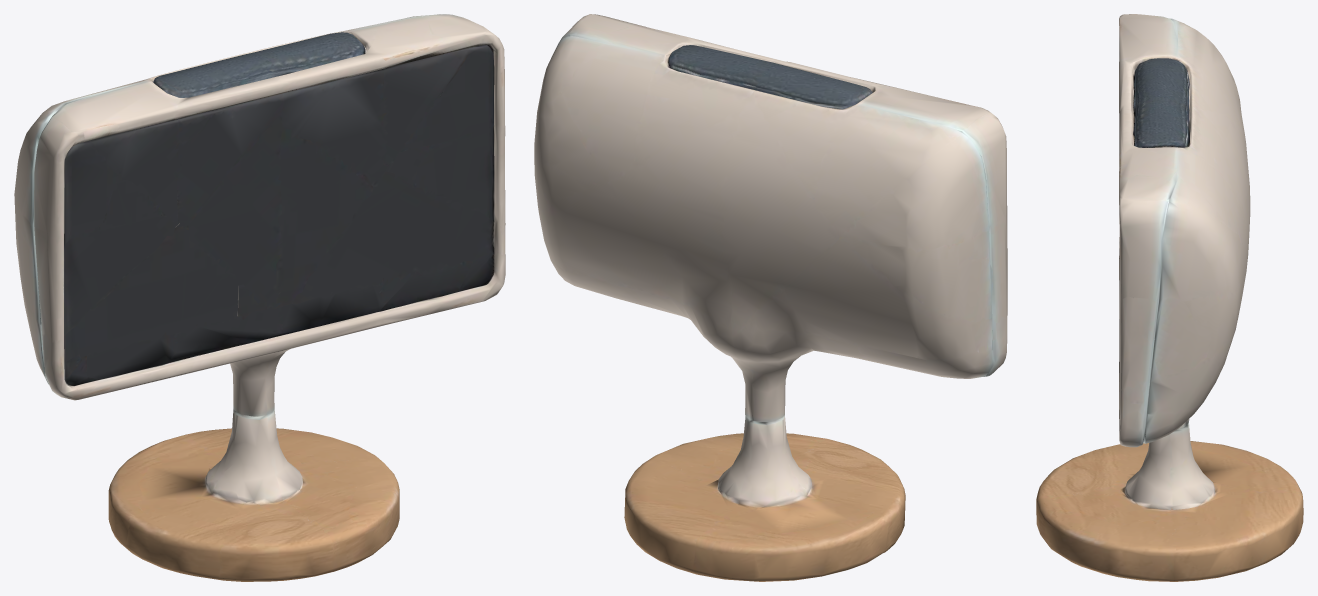
Rendered from monitor.low.glb.
3 renders of one model, left to right at view 1: azimuth 30°, elevation 25°; view 2: azimuth 150°, elevation 25°; view 3: azimuth 270°, elevation 25°, orthographic. The views are drawn at different scales.
Parts seen in each view (by area): view 1: tripo_node_e27f7cd5-86cc-4b60-932b-93221983cf39; view 2: tripo_node_e27f7cd5-86cc-4b60-932b-93221983cf39; view 3: tripo_node_e27f7cd5-86cc-4b60-932b-93221983cf39.
Part boxes in pixels (bbox=[...]): tripo_node_e27f7cd5-86cc-4b60-932b-93221983cf39: bbox=[14, 14, 505, 581]; tripo_node_e27f7cd5-86cc-4b60-932b-93221983cf39: bbox=[534, 14, 1007, 581]; tripo_node_e27f7cd5-86cc-4b60-932b-93221983cf39: bbox=[1036, 14, 1303, 581].
Size of the model in its own units: 0.6197 by 0.6141 by 0.3434.
Materials: 1 (1 with a texture image).
